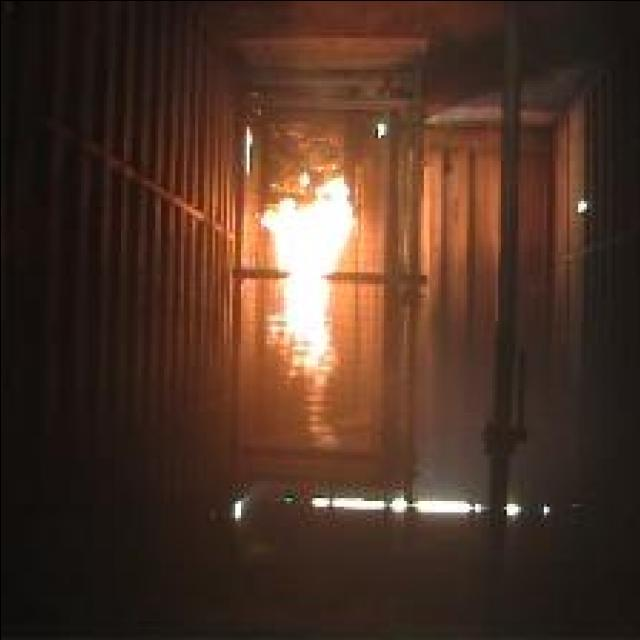Fire: (260, 173, 354, 447)
